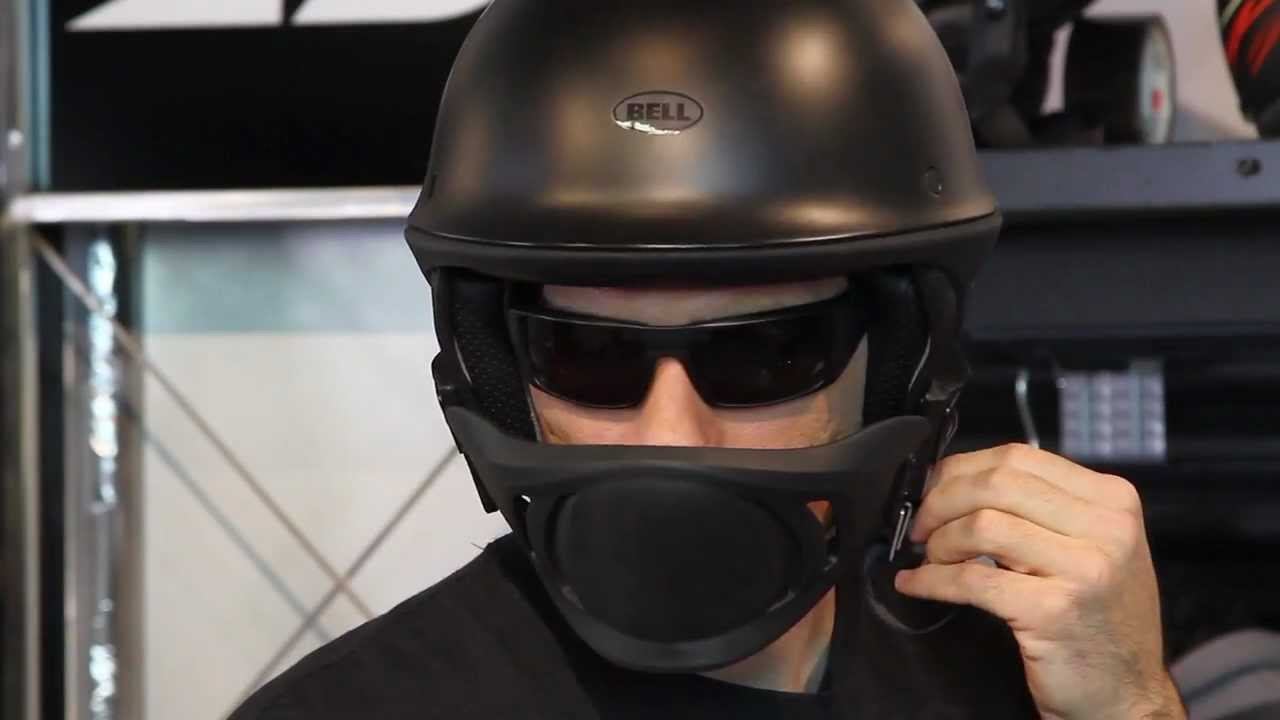with_helmet: (398, 3, 1007, 683)
